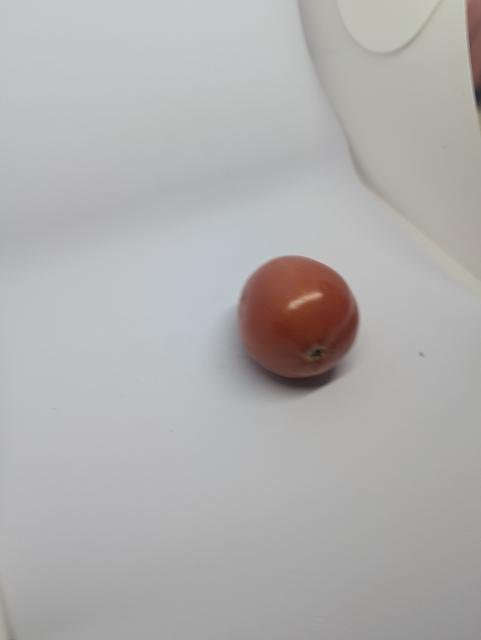red: (232, 250, 369, 387)
